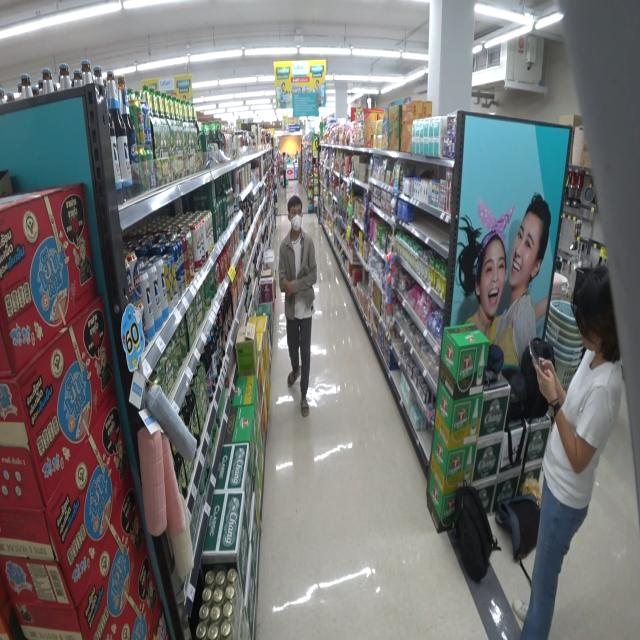shoplifting: (280, 196, 318, 413)
